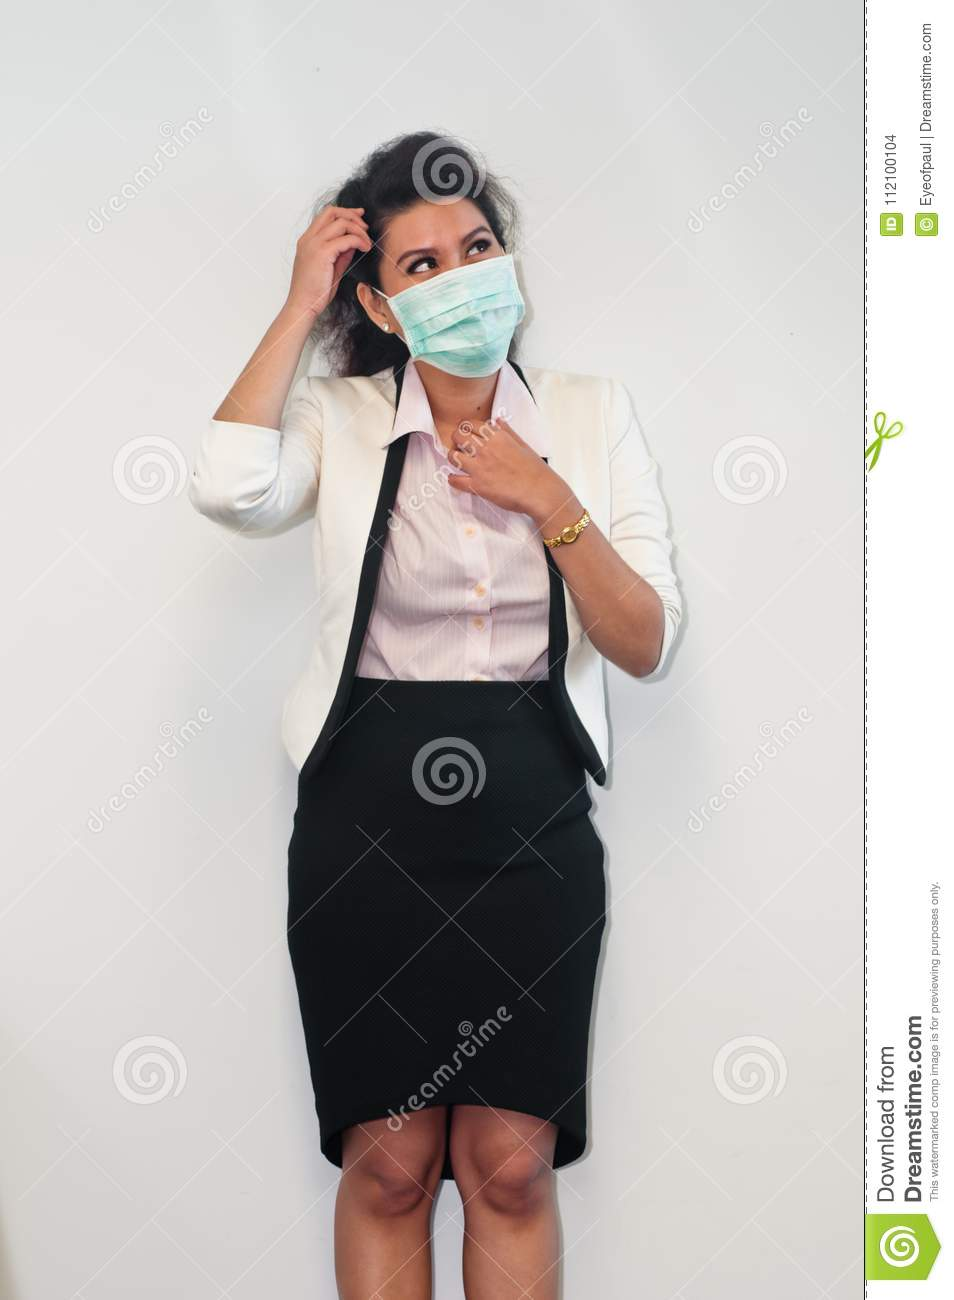mask: (393, 258, 530, 380)
